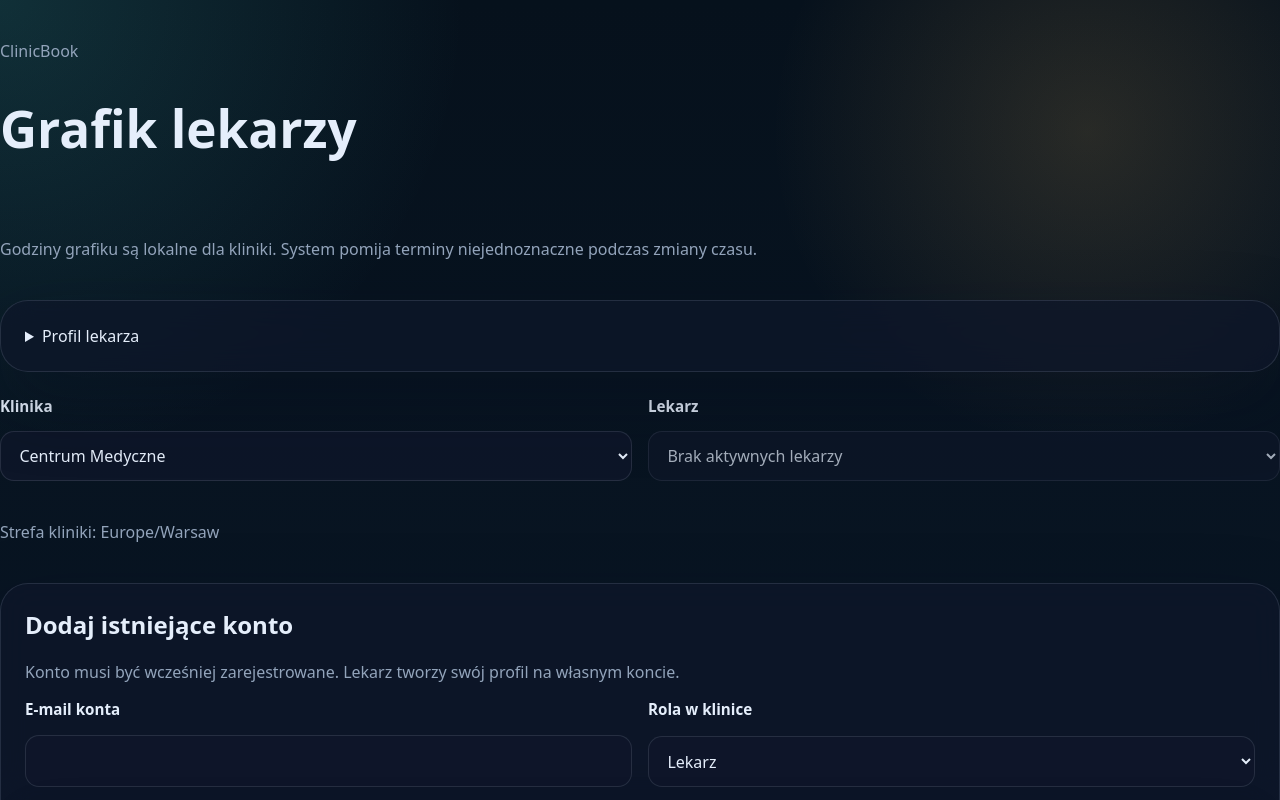
Test case: ClinicSchedule page › creates a doctor profile when the current account has none
This screenshot has width=1280, height=800.
Step 1. Click the heading "Profil lekarza" → point(91, 336), box [42,325,139,347]
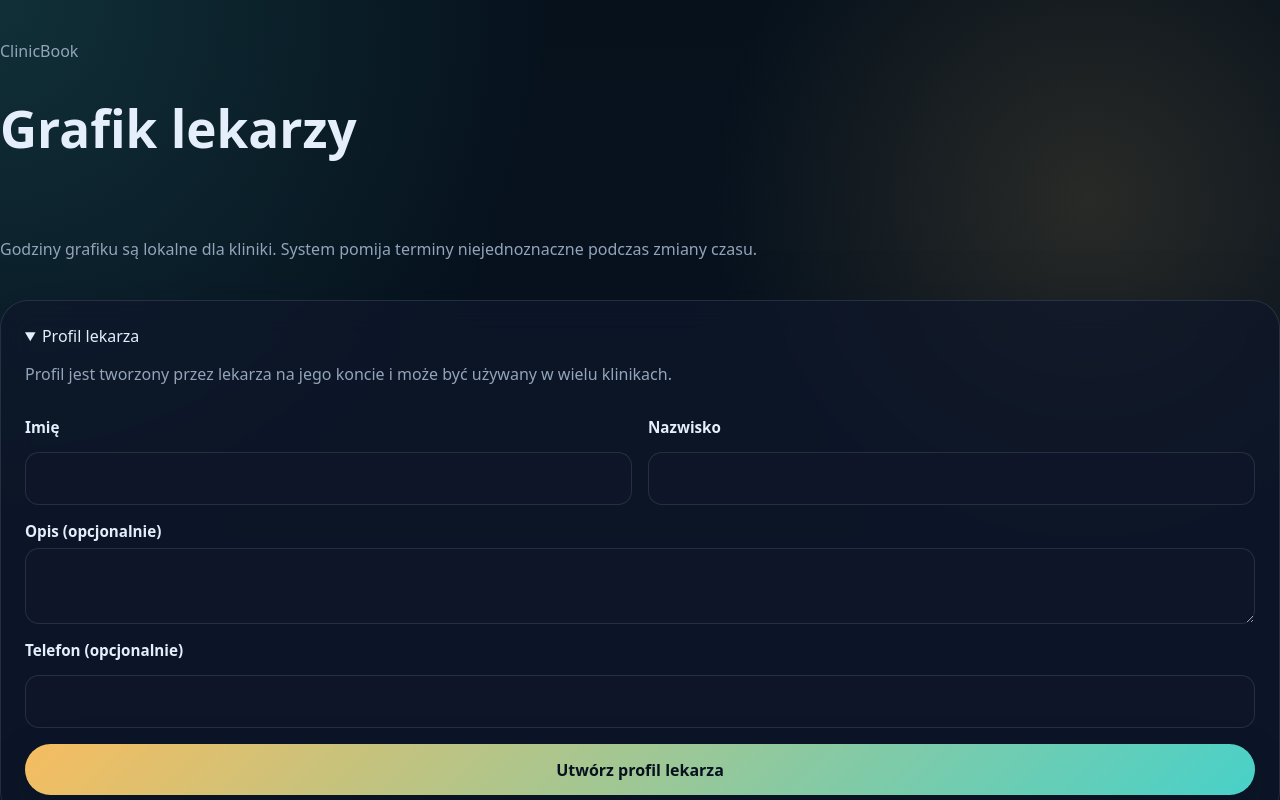
Step 2. Type "Jan" into the field labelled "Imię" → point(328, 479), box [25,452,632,505]
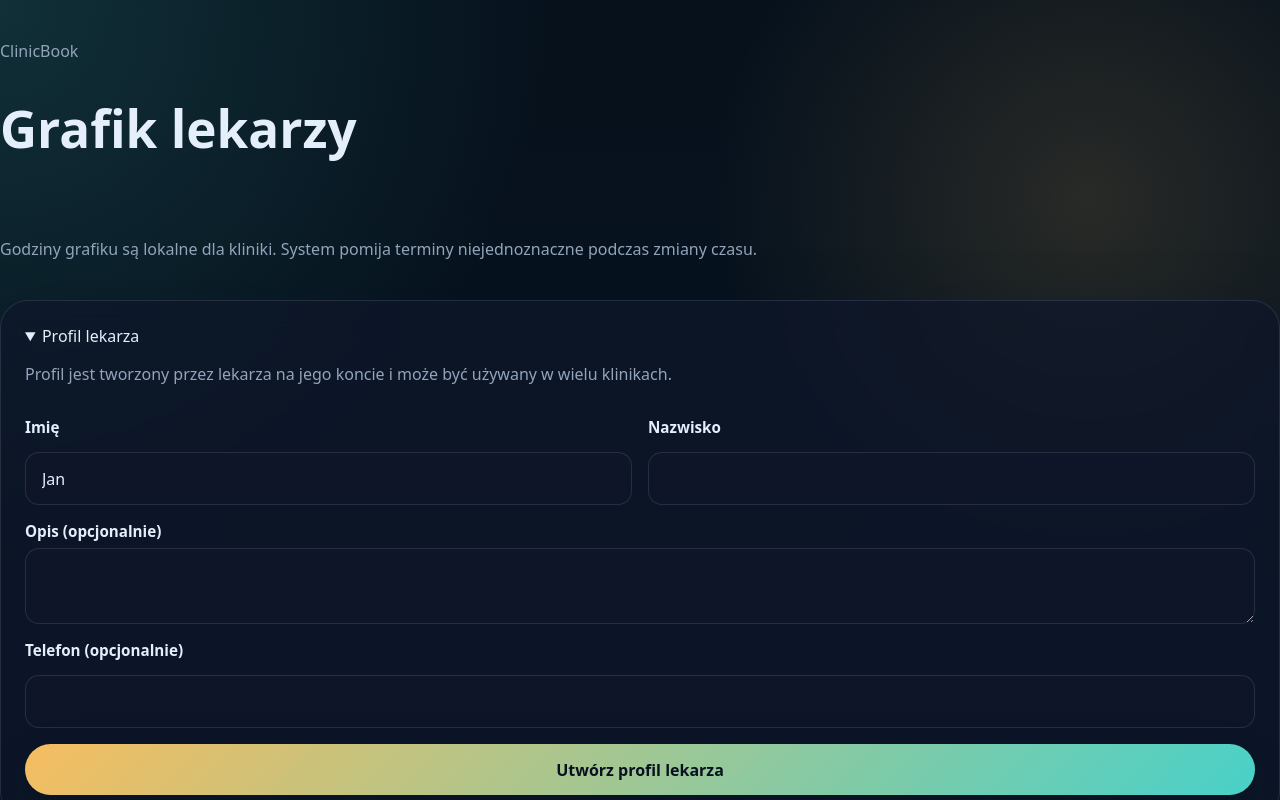
Step 3. Type "Kowalski" into the field labelled "Nazwisko" → point(952, 479), box [648,452,1255,505]
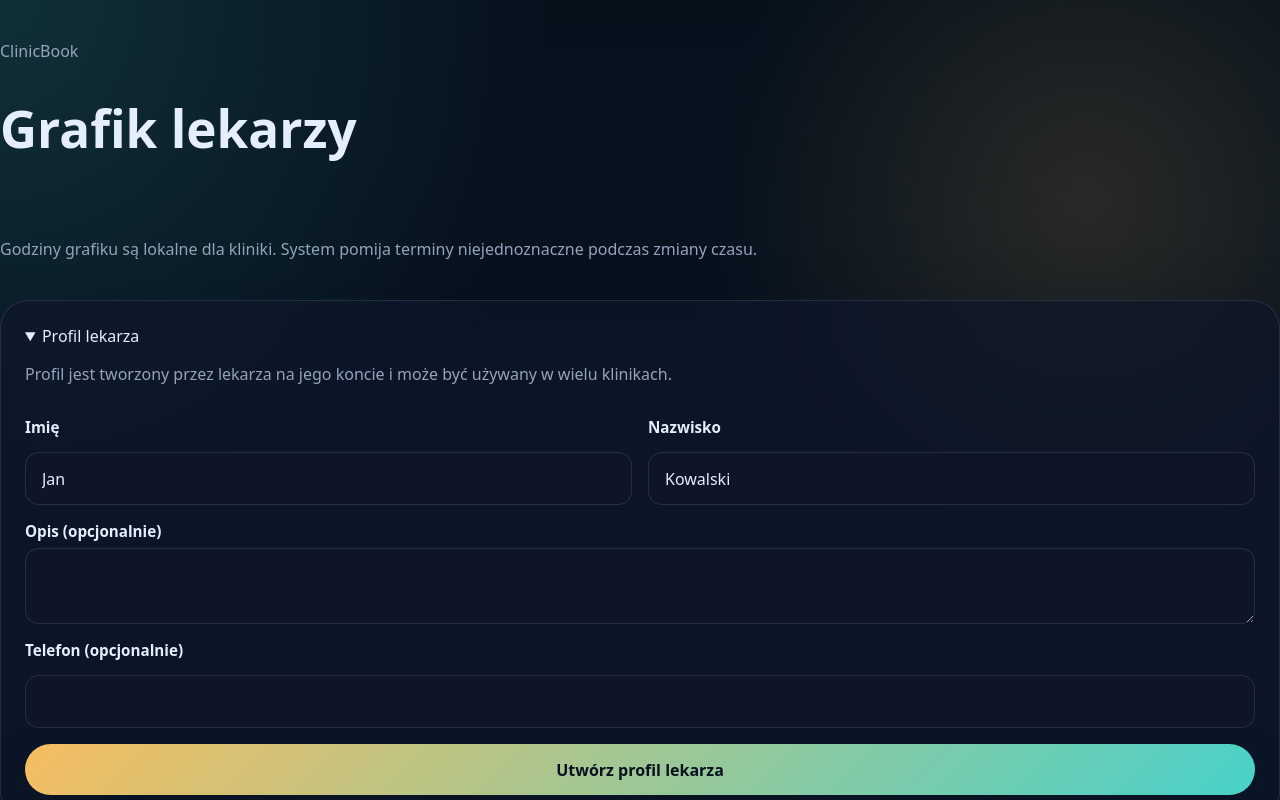
Step 4. Click the button "Utwórz profil lekarza" → point(640, 770), box [25,744,1255,795]
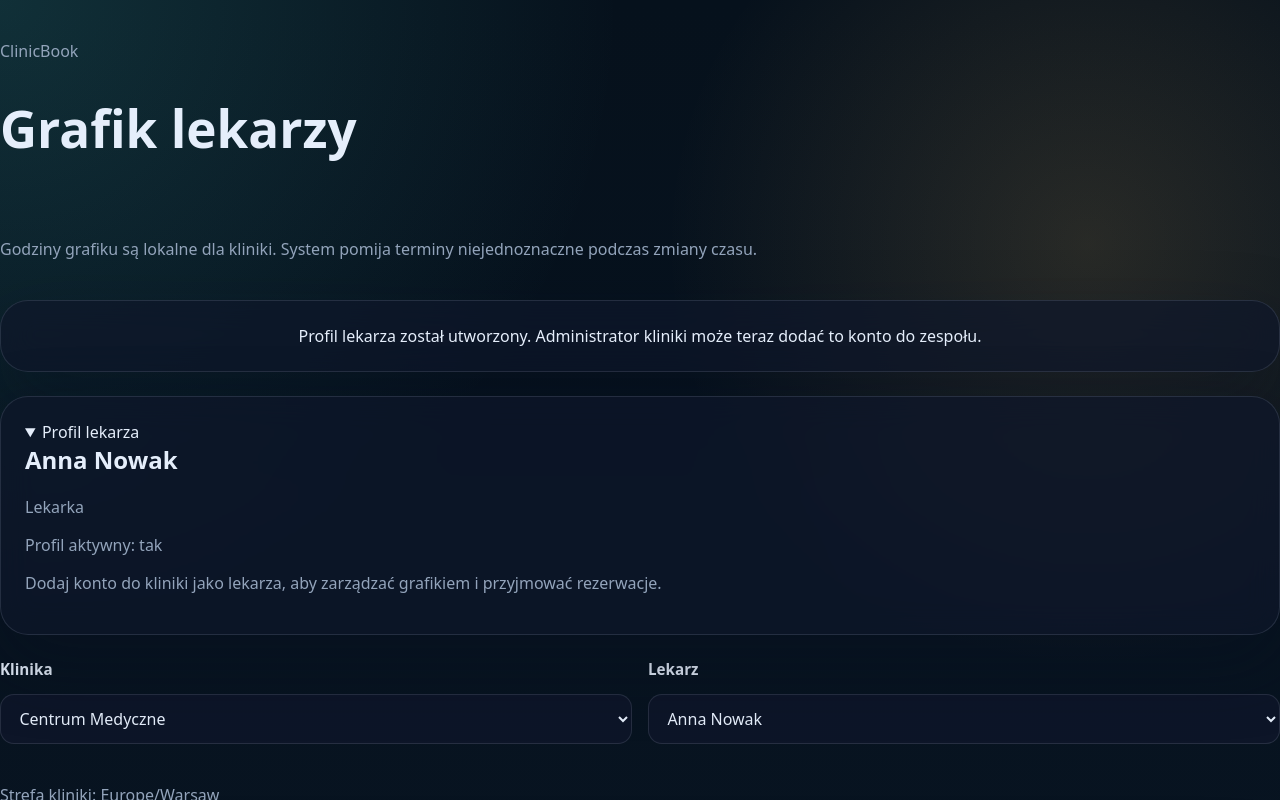
Check: the message shows "Profil lekarza został utworzony", box [298,325,981,347]
